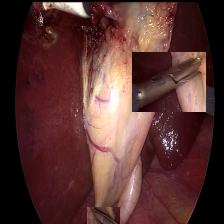Grasper: (131, 51, 205, 111), (86, 206, 119, 224)
Hook: (32, 0, 90, 25)
